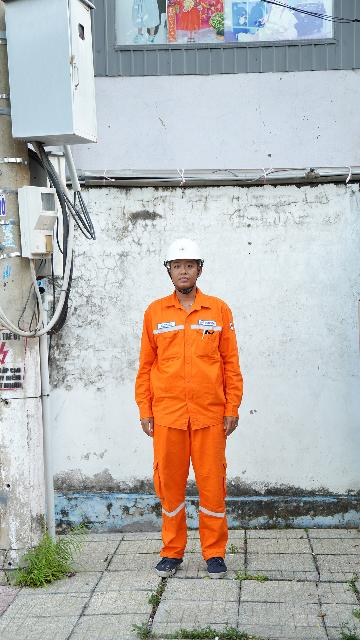helmet: (154, 237, 211, 267)
shoes: (198, 541, 236, 583), (142, 551, 187, 584)
